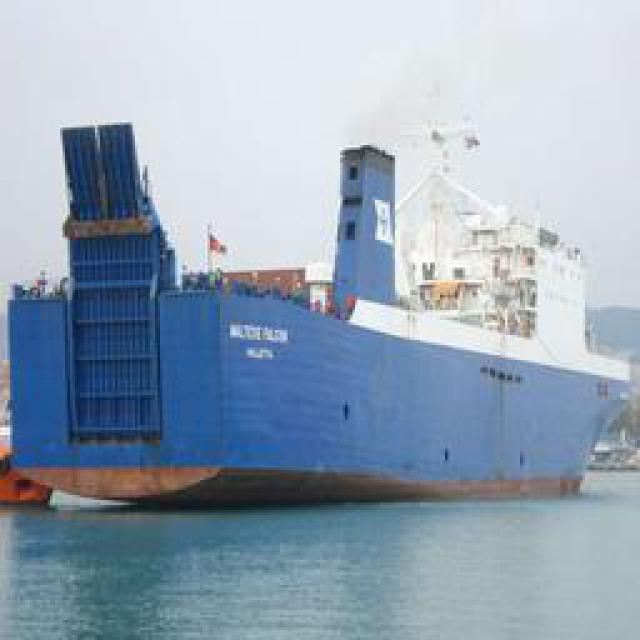Ship: (1, 140, 626, 505)
